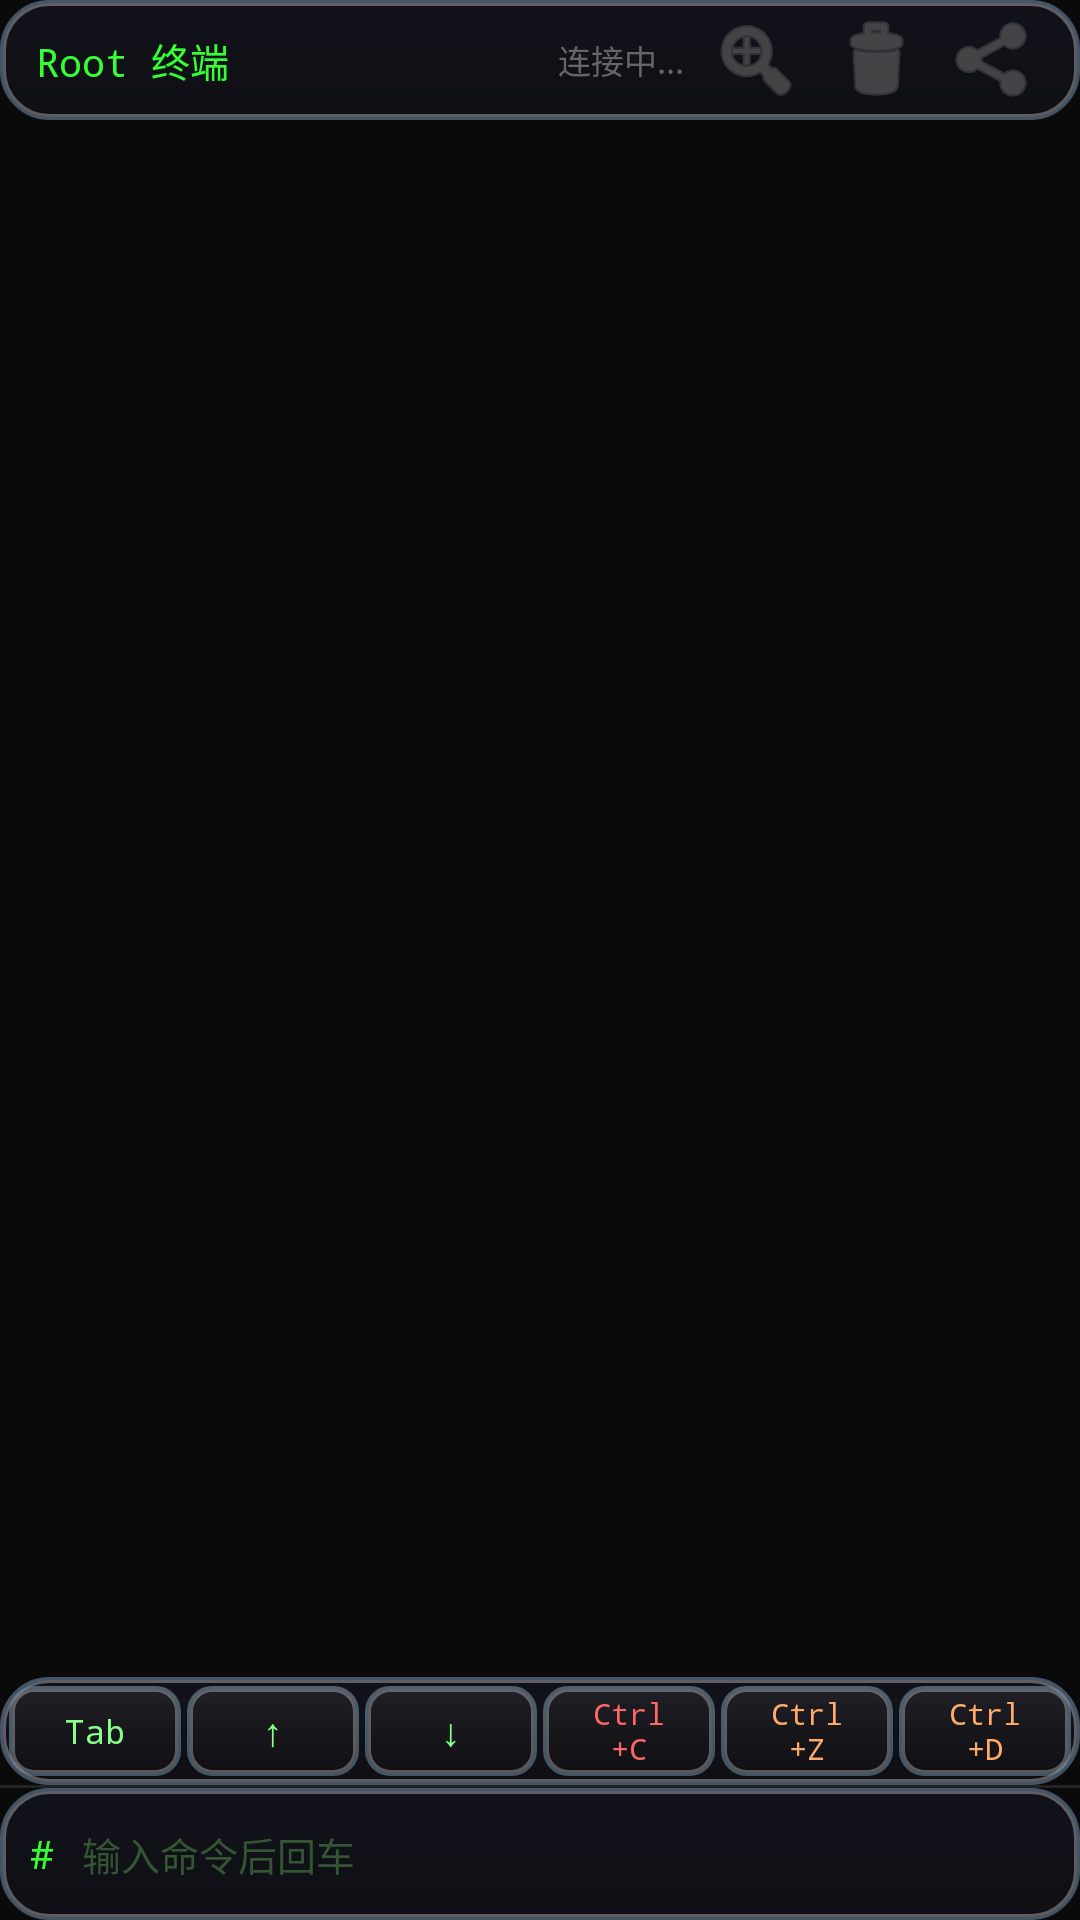

Where icons sit on this 1080px x 1920px app screen, as {"left": x1, "top": y1, "right": x2, "bottom": y2}:
字体大小: {"left": 721, "top": 25, "right": 791, "bottom": 96}
